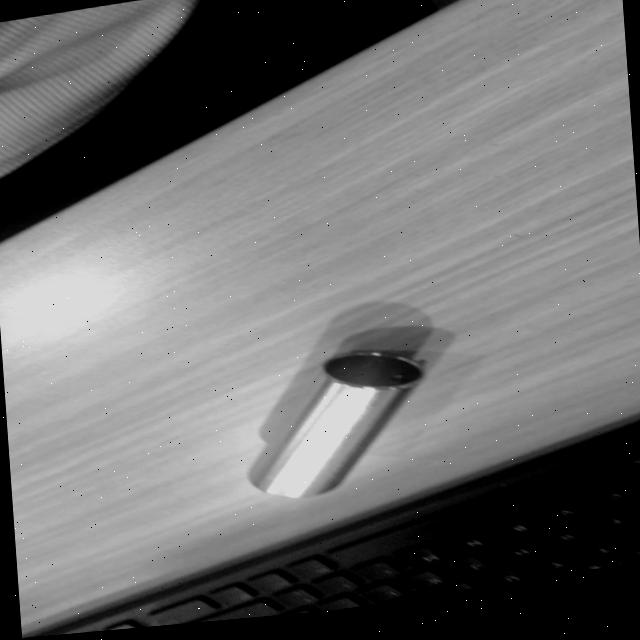Co_Lon: (239, 317, 428, 526)
